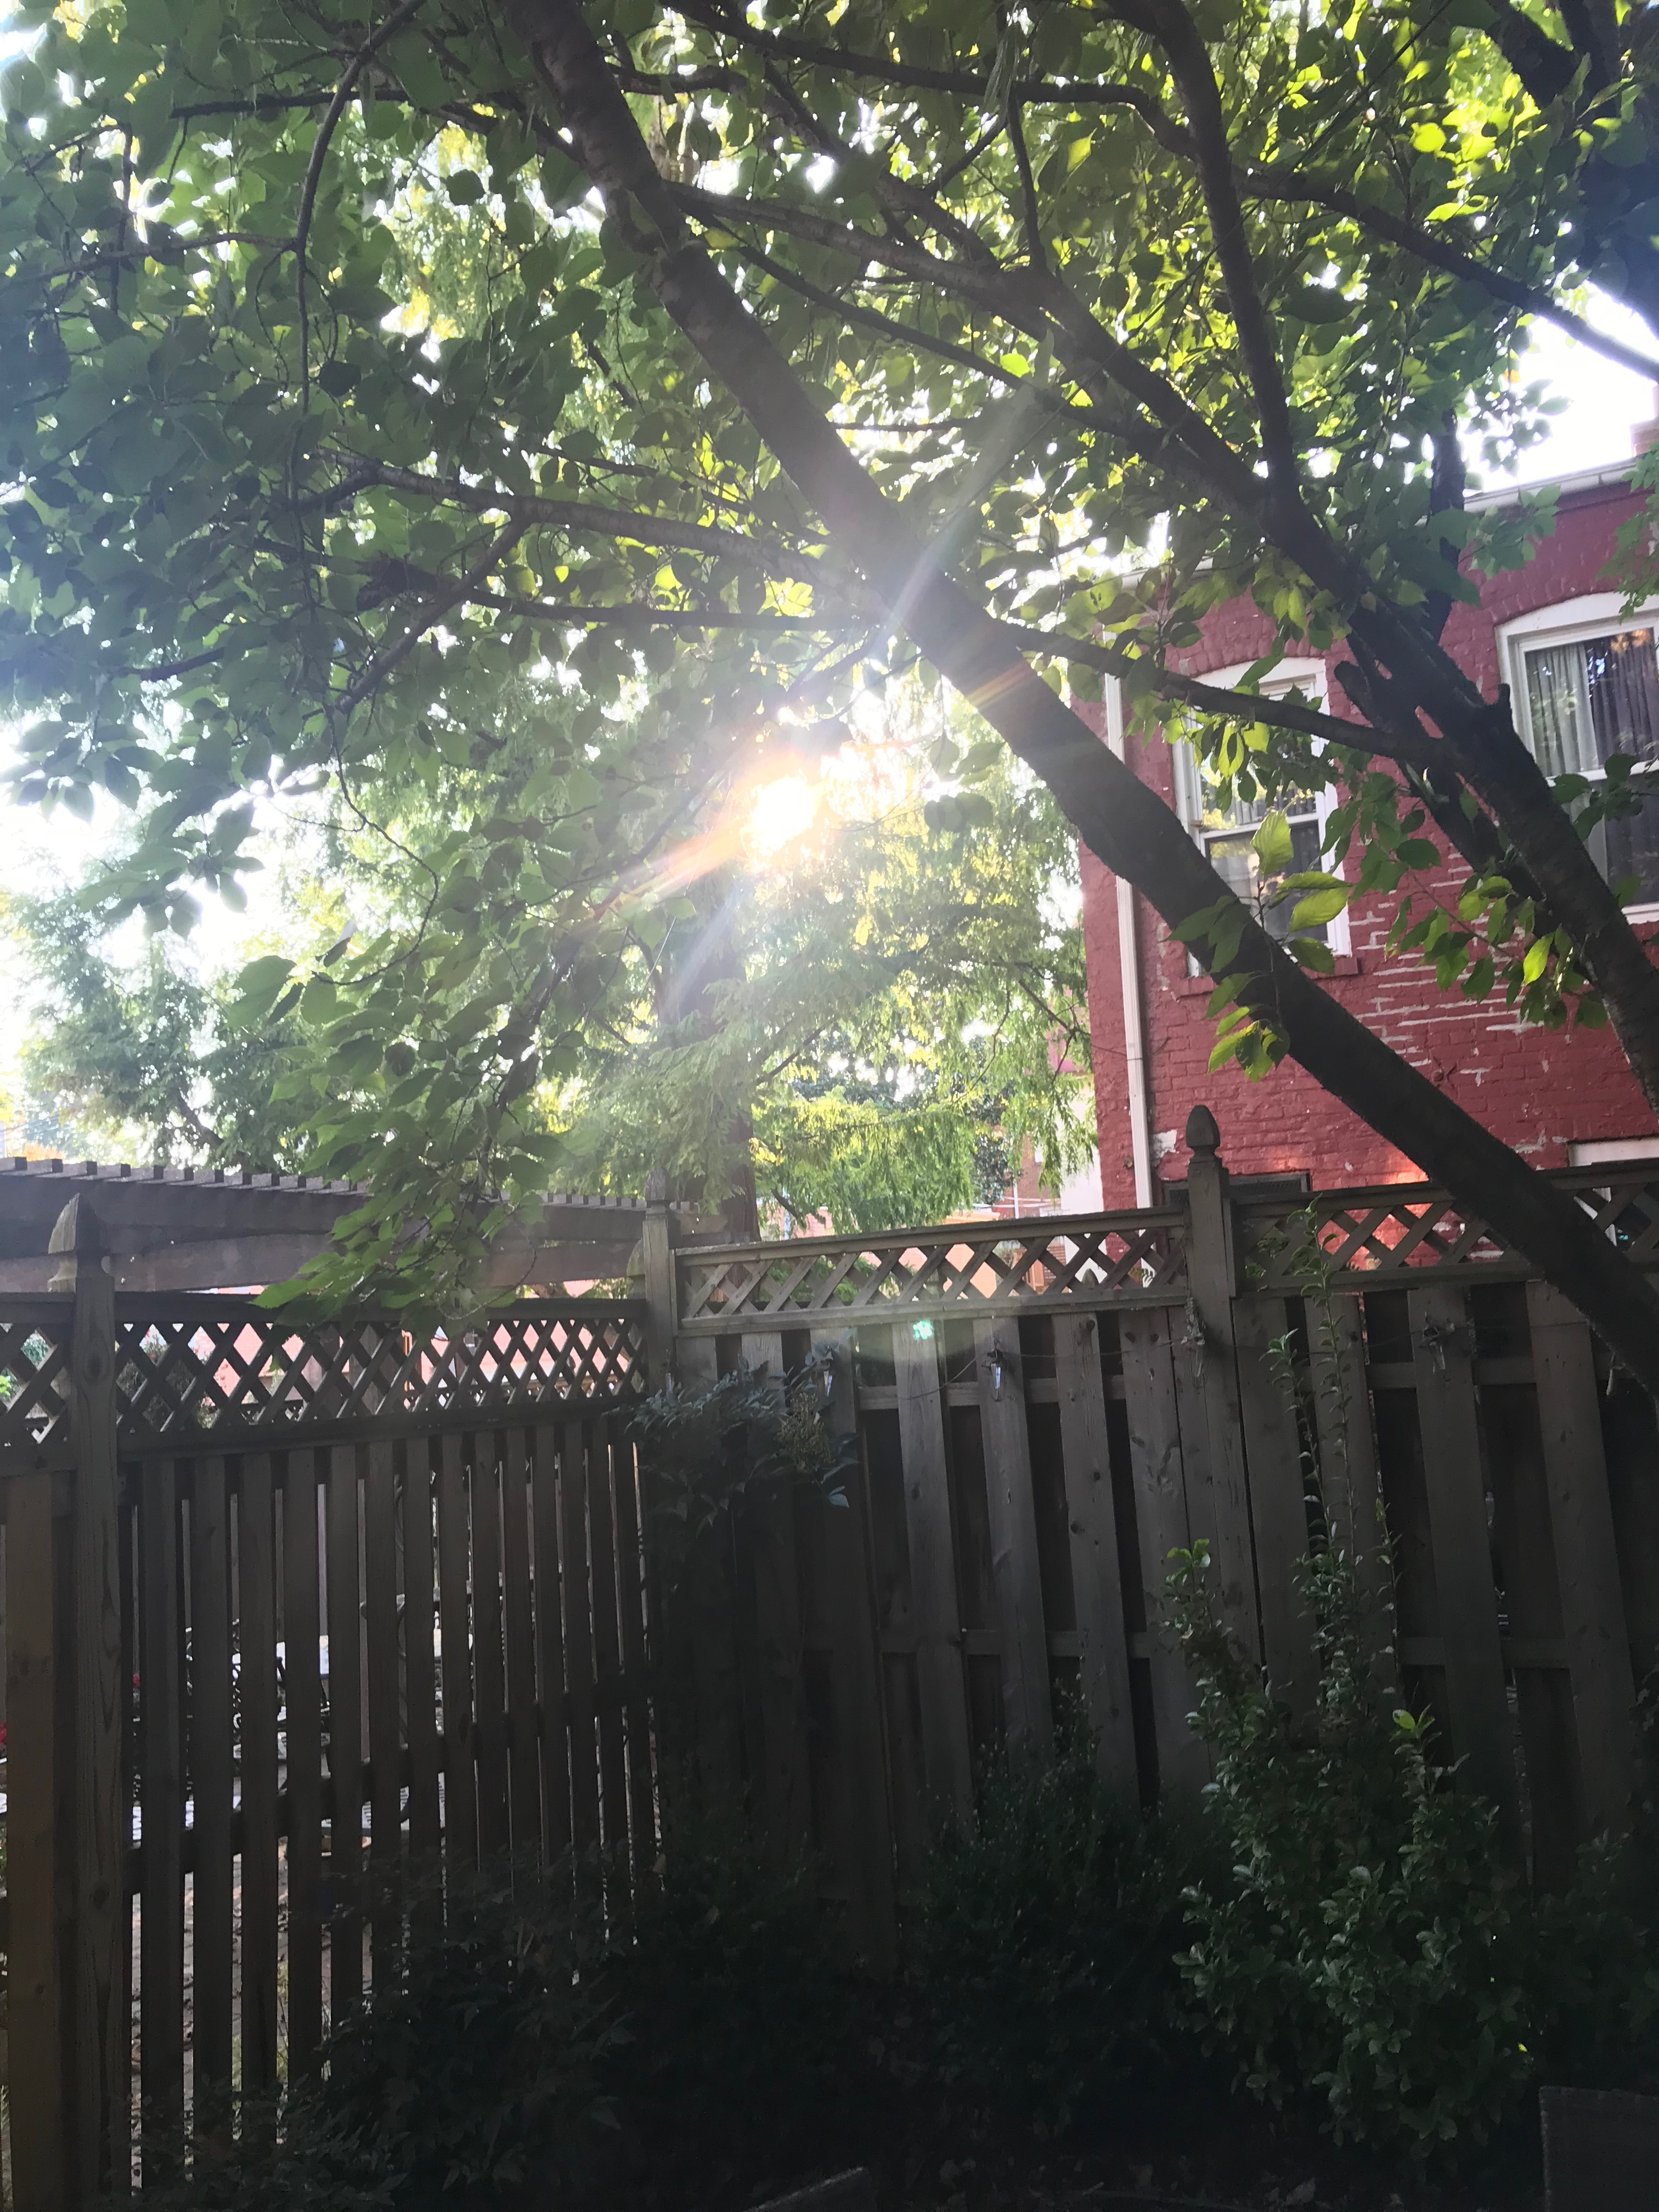flare: (911, 1318, 936, 1341)
